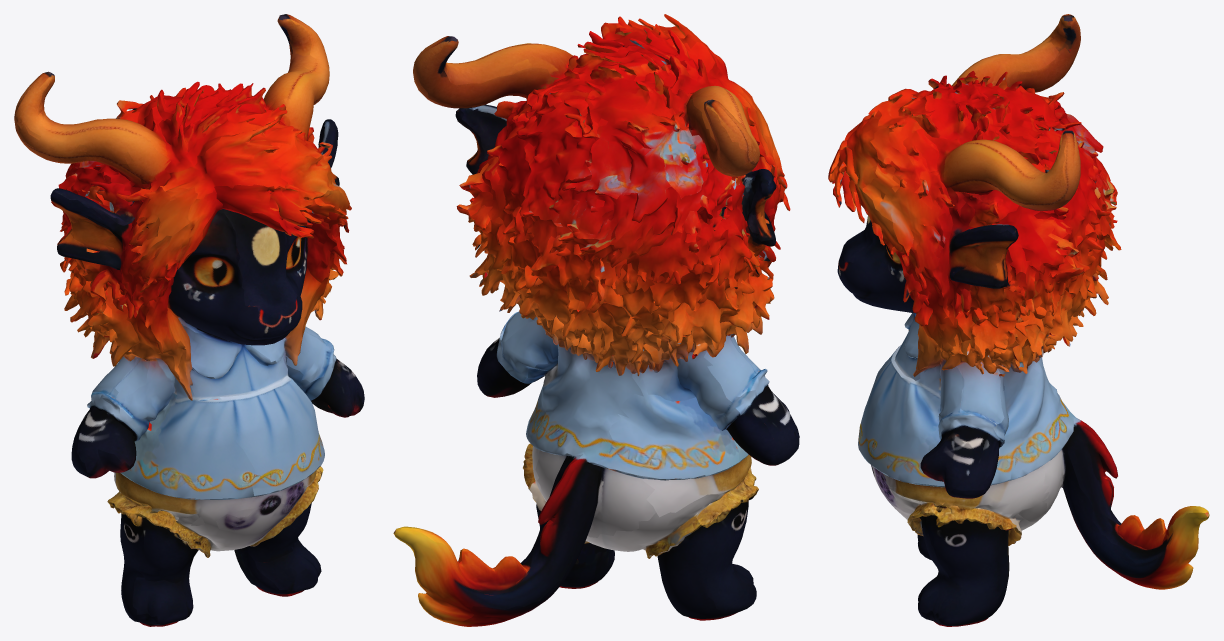
The model's file is khanadoll.glb.
3 renders of one model, left to right at view 1: azimuth 30°, elevation 25°; view 2: azimuth 150°, elevation 25°; view 3: azimuth 270°, elevation 25°, orthographic. The views are drawn at different scales.
Visible parts, largest first — view 1: temp_mesh.ply; view 2: temp_mesh.ply; view 3: temp_mesh.ply.
Boxes of the visible parts, left/top/right/bottom form: temp_mesh.ply: left=14, top=14, right=364, bottom=626; temp_mesh.ply: left=393, top=14, right=799, bottom=626; temp_mesh.ply: left=828, top=14, right=1209, bottom=626.
Size of the model in its own units: 1.22 by 1.97 by 1.32.
1 material, 1 textured.
